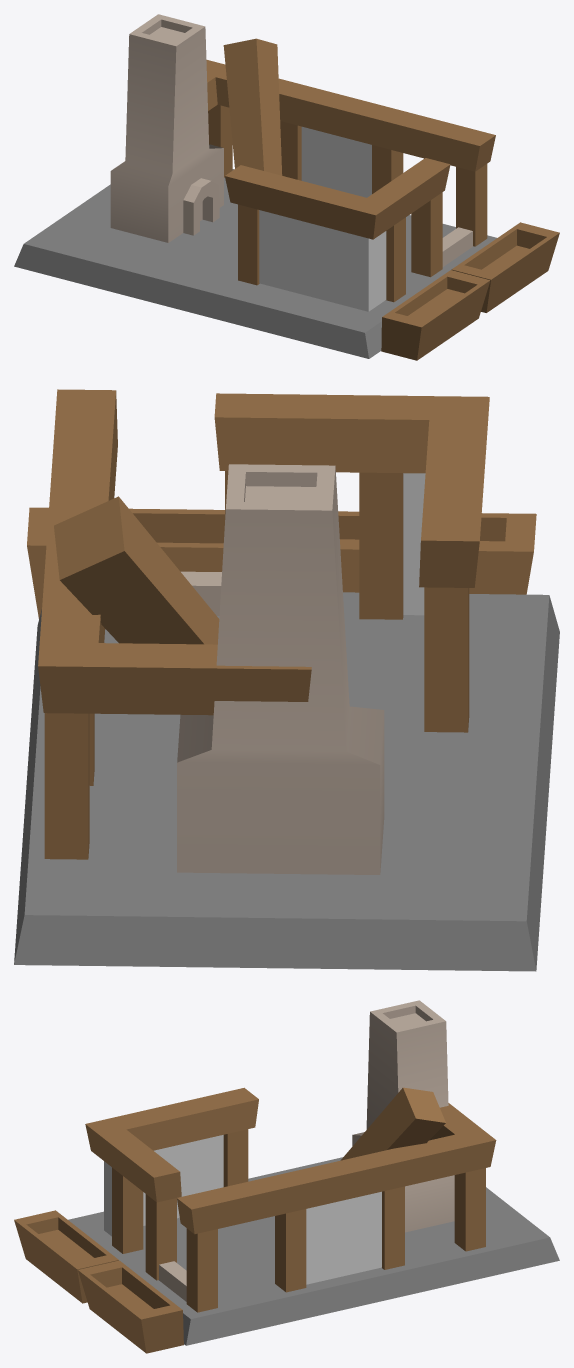
The model's file is broken_farm.fbx.
3 renders of one model, top to bottom at view 1: azimuth 30°, elevation 25°; view 2: azimuth 150°, elevation 25°; view 3: azimuth 270°, elevation 25°, orthographic. The views are drawn at different scales.
Visible parts, largest first — view 1: pCube8, pCube17, pCube13, pCube18, pCube12, pCube24, pCube10, pCube11, pCube27, pCube14, pCube20, pCube16 (+6 smaller); view 2: pCube8, pCube17, pCube13, pCube12, pCube24, pCube23, pCube16, pCube15, pCube10, pCube11, pCube18, pCube19; view 3: pCube8, pCube13, pCube17, pCube12, pCube11, pCube27, pCube10, pCube24, pCube18, pCube20, pCube21, pCube23 (+5 smaller).
Part boxes in pixels (bbox=[...]): pCube8: bbox=[14, 169, 496, 358]; pCube17: bbox=[110, 14, 223, 242]; pCube13: bbox=[206, 59, 495, 171]; pCube18: bbox=[259, 210, 386, 311]; pCube12: bbox=[225, 158, 450, 239]; pCube24: bbox=[223, 38, 282, 175]; pCube10: bbox=[381, 270, 490, 360]; pCube11: bbox=[451, 222, 559, 312]; pCube27: bbox=[301, 126, 371, 197]; pCube14: bbox=[411, 192, 442, 277]; pCube20: bbox=[456, 164, 487, 246]; pCube16: bbox=[238, 204, 259, 285]; pCube8: bbox=[14, 592, 559, 971]; pCube17: bbox=[177, 464, 384, 874]; pCube13: bbox=[38, 389, 311, 715]; pCube12: bbox=[214, 393, 489, 587]; pCube24: bbox=[54, 496, 219, 644]; pCube23: bbox=[44, 713, 89, 859]; pCube16: bbox=[424, 587, 469, 732]; pCube15: bbox=[359, 472, 403, 619]; pCube10: bbox=[338, 511, 536, 594]; pCube11: bbox=[27, 507, 224, 619]; pCube18: bbox=[403, 473, 425, 615]; pCube19: bbox=[181, 571, 221, 615]; pCube8: bbox=[68, 1157, 559, 1345]; pCube13: bbox=[177, 1103, 496, 1234]; pCube17: bbox=[352, 1000, 454, 1232]; pCube12: bbox=[85, 1087, 258, 1202]; pCube11: bbox=[78, 1260, 183, 1353]; pCube27: bbox=[306, 1191, 381, 1284]; pCube10: bbox=[14, 1210, 118, 1303]; pCube24: bbox=[340, 1087, 445, 1160]; pCube18: bbox=[104, 1135, 223, 1236]; pCube20: bbox=[186, 1228, 217, 1312]; pCube21: bbox=[275, 1209, 306, 1292]; pCube23: bbox=[454, 1168, 485, 1251].
Size of the model in its own units: 15.51 by 7.65 by 17.81.
